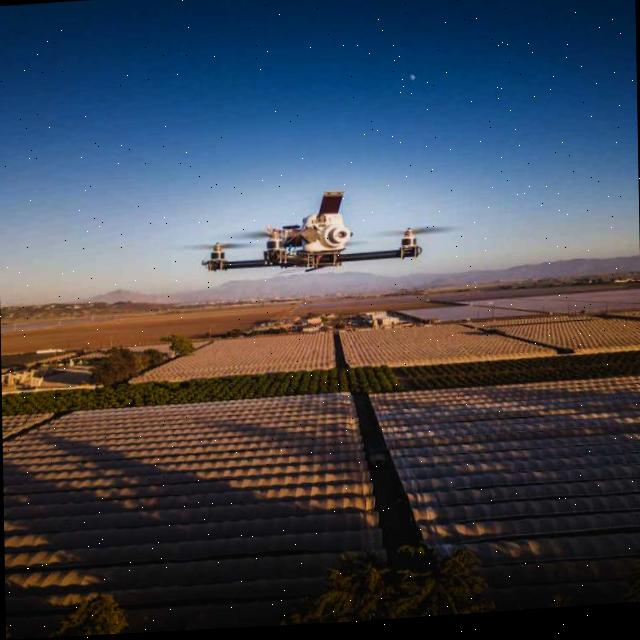drone: (202, 183, 426, 277)
